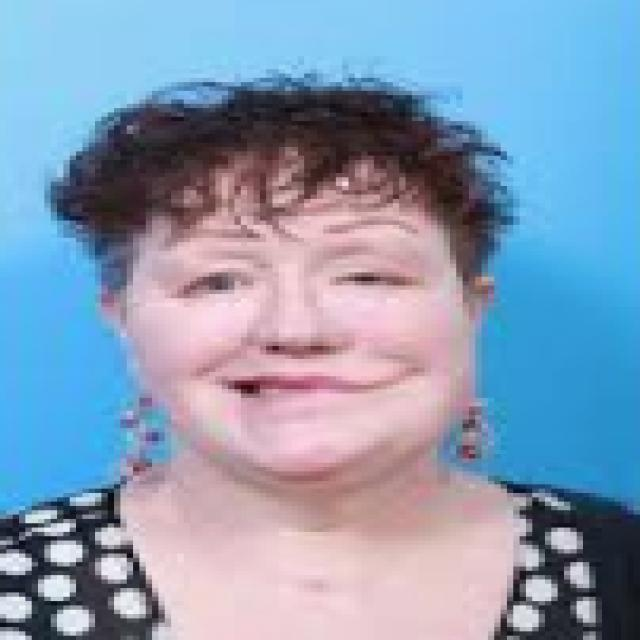stroke_face: (93, 75, 527, 553)
